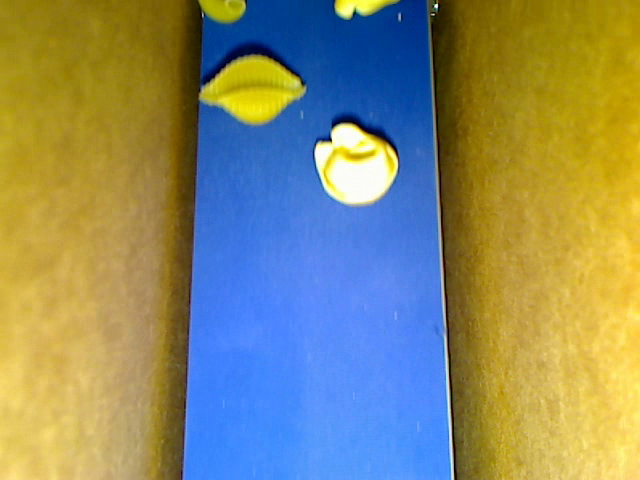elbow: (197, 1, 245, 24)
shell: (197, 54, 304, 126)
tortellini: (311, 122, 398, 206)
